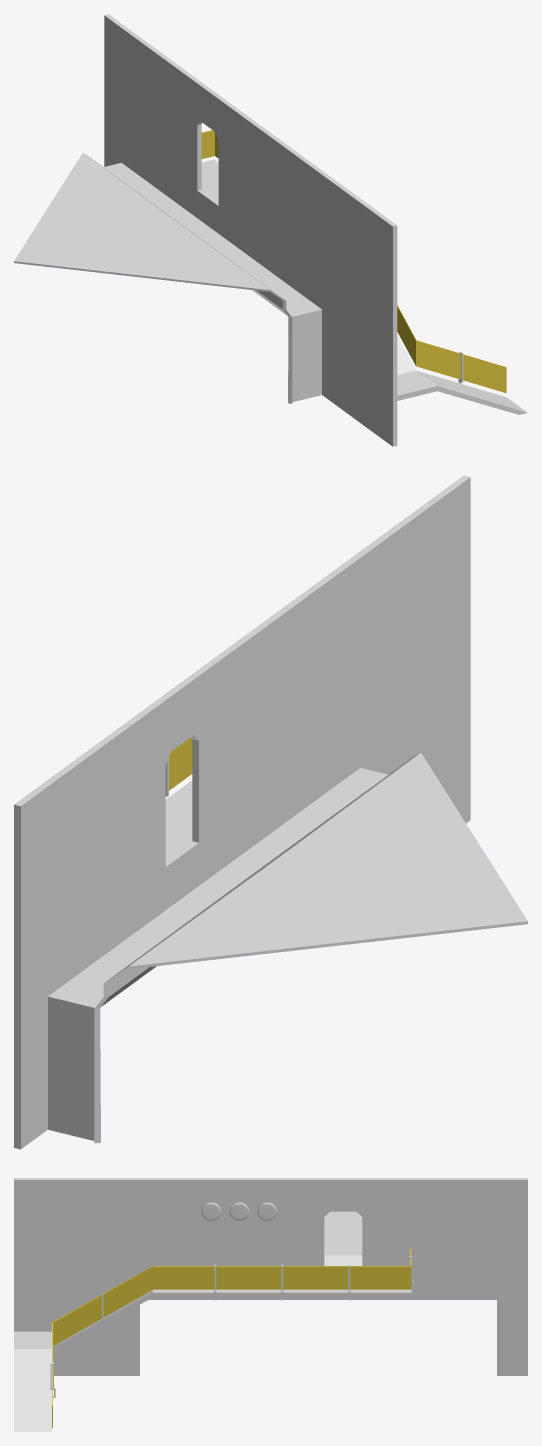
The model's file is StanzaPrincipale_Interno.fbx.
3 views of the same model, one above another, from view 1: azimuth 30°, elevation 25°; view 2: azimuth 150°, elevation 25°; view 3: azimuth 270°, elevation 25° (orthographic). The views are drawn at different scales.
Visible parts, largest first — view 1: Muro, Vetro_Salita_1, Salita_1, Scalinata_disimpegno, Scalinata_dritta, Vetro_Salita_2; view 2: Muro, Scalinata_dritta, Scalinata_Vetri_Lunghi; view 3: Muro, Scalinata_Vetri_Lunghi, Salita_1, Vetro_Salita_2, Scalinata_dritta, Luci, Salita_2, Scalinata_disimpegno, Scalinata_Ganci_Vetro.
Part boxes in pixels (x1,y1,x2,y2): Muro: (14,14,397,446); Vetro_Salita_1: (416,340,506,393); Salita_1: (417,371,527,414); Scalinata_disimpegno: (397,370,437,400); Scalinata_dritta: (201,159,218,201); Vetro_Salita_2: (397,305,416,365); Muro: (14,475,527,1149); Scalinata_dritta: (165,780,192,859); Scalinata_Vetri_Lunghi: (169,737,192,790); Muro: (14,1178,527,1375); Scalinata_Vetri_Lunghi: (153,1248,411,1289); Salita_1: (14,1349,51,1431); Vetro_Salita_2: (52,1266,152,1345); Scalinata_dritta: (153,1289,411,1297); Luci: (201,1202,276,1220); Salita_2: (53,1290,152,1352); Scalinata_disimpegno: (14,1331,51,1348); Scalinata_Ganci_Vetro: (50,1256,413,1397).
Size of the model in its own units: 632 by 388 by 921.
